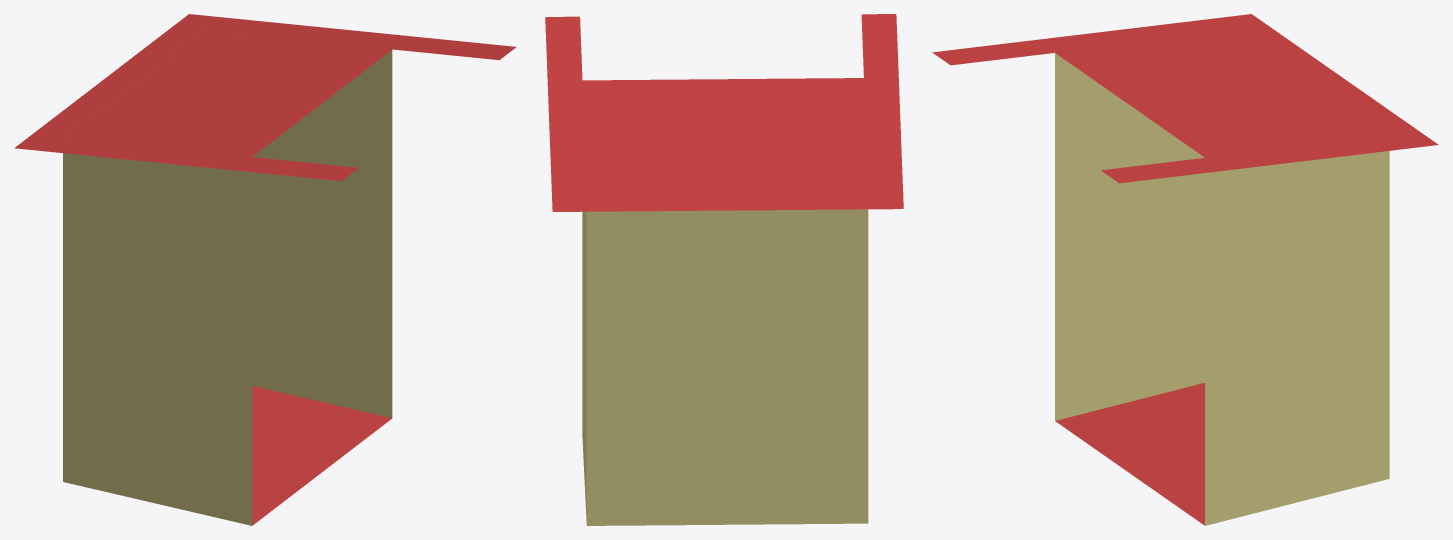
The picture shows the model from 3 angles, left to right: view 1: azimuth 30°, elevation 25°; view 2: azimuth 150°, elevation 25°; view 3: azimuth 270°, elevation 25°; orthographic projection. The views are drawn at different scales.
Bounding box in the file's own units: 7 × 7.05 × 5.87.
